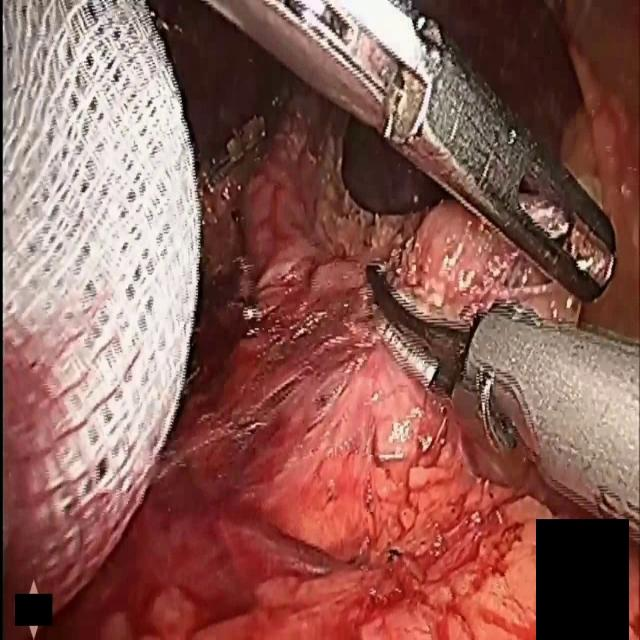surgical-area: (54, 0, 638, 639)
surgical-tool: (207, 0, 616, 305), (368, 267, 640, 525)
